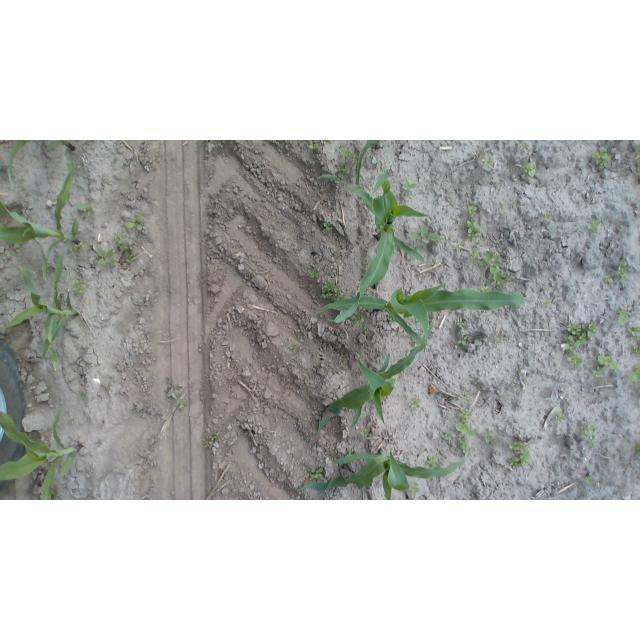Maize: (314, 275, 526, 351), (318, 173, 427, 319), (314, 324, 433, 437), (0, 162, 82, 282), (295, 445, 469, 500), (2, 248, 80, 370), (1, 406, 84, 500), (352, 140, 381, 185), (8, 140, 28, 181), (44, 141, 74, 156)
Weeds: (565, 322, 602, 371), (479, 250, 514, 284), (412, 225, 441, 251), (509, 441, 531, 467), (319, 280, 343, 299), (119, 244, 138, 263), (468, 218, 484, 239), (97, 248, 115, 266), (456, 422, 477, 437), (597, 146, 612, 166), (124, 215, 144, 230), (598, 356, 618, 371), (167, 379, 183, 397), (78, 200, 94, 217), (203, 433, 218, 448), (408, 483, 422, 498), (458, 437, 471, 453), (307, 466, 323, 479), (586, 218, 600, 232), (402, 179, 416, 193), (618, 306, 630, 322), (630, 366, 640, 384), (618, 259, 627, 278), (581, 423, 594, 436), (525, 163, 536, 178), (74, 280, 85, 295), (343, 149, 357, 160), (101, 381, 114, 392), (629, 325, 640, 337), (484, 430, 494, 443), (311, 268, 321, 281), (631, 346, 640, 360), (498, 201, 509, 212), (69, 244, 82, 253), (458, 335, 468, 346), (518, 142, 528, 153), (594, 365, 605, 375), (458, 411, 473, 418), (65, 161, 76, 170), (442, 434, 454, 442), (554, 411, 562, 423), (411, 398, 421, 407), (426, 456, 435, 466), (545, 212, 554, 222), (469, 205, 478, 215), (323, 221, 332, 231), (309, 141, 319, 150), (113, 236, 123, 245), (462, 391, 470, 402), (359, 429, 370, 437), (606, 275, 615, 284), (337, 162, 347, 170), (470, 247, 477, 257), (544, 298, 552, 306), (356, 315, 364, 323), (487, 156, 494, 165), (636, 442, 640, 457), (585, 475, 592, 483), (289, 344, 296, 352), (179, 401, 186, 409), (482, 285, 491, 291), (458, 320, 464, 328), (634, 144, 640, 152), (497, 337, 503, 343), (326, 140, 334, 144), (296, 328, 301, 334), (85, 363, 93, 366)
